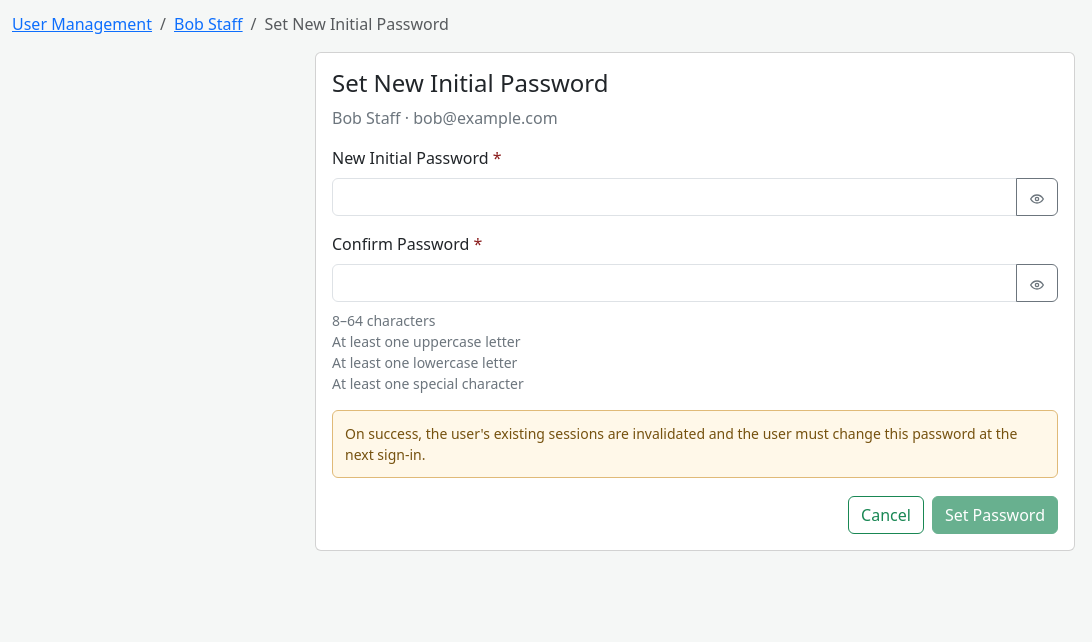
Test: AdminUsers create/edit/reset (Lab 3 Issue #50, UI-10/11) › reset form requires policy password with confirmation and shows the mandatory-change notice
Expected: the list item "Set New Initial Password" is shown, [243, 12, 449, 36]
Expected: the text "Bob Staff · bob@example.com" is shown, [332, 107, 558, 129]
Click the button named "Show new initial password".
click(1037, 197)  # box [1016, 178, 1058, 216]
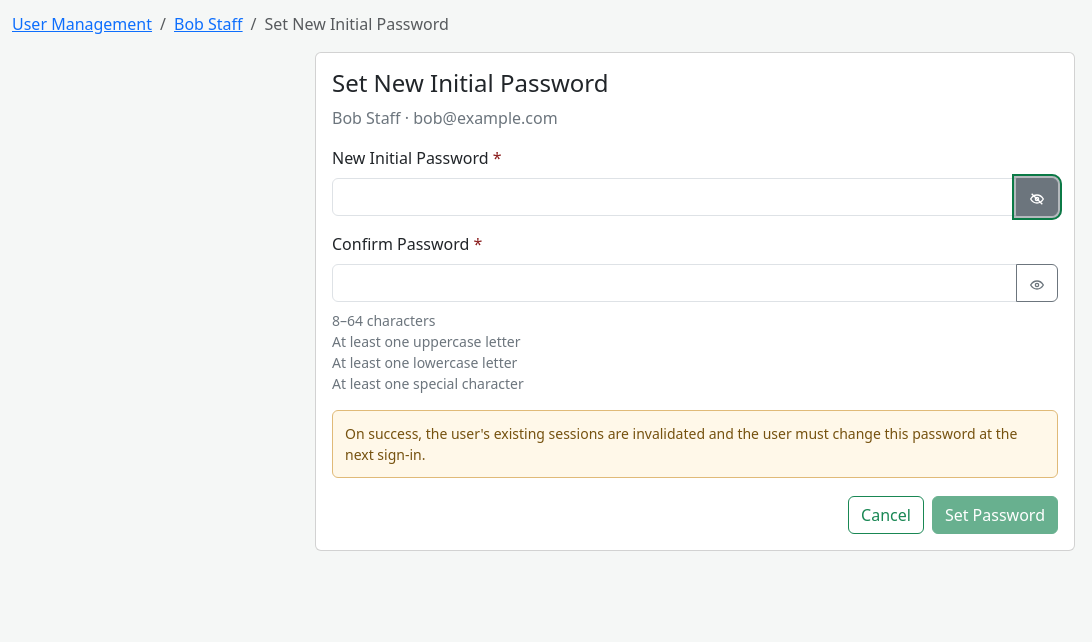
Type "Reset-New-9!" into the field labelled "New Initial Password *".
click(674, 197); type("Reset-New-9!")  # box [332, 178, 1017, 216]
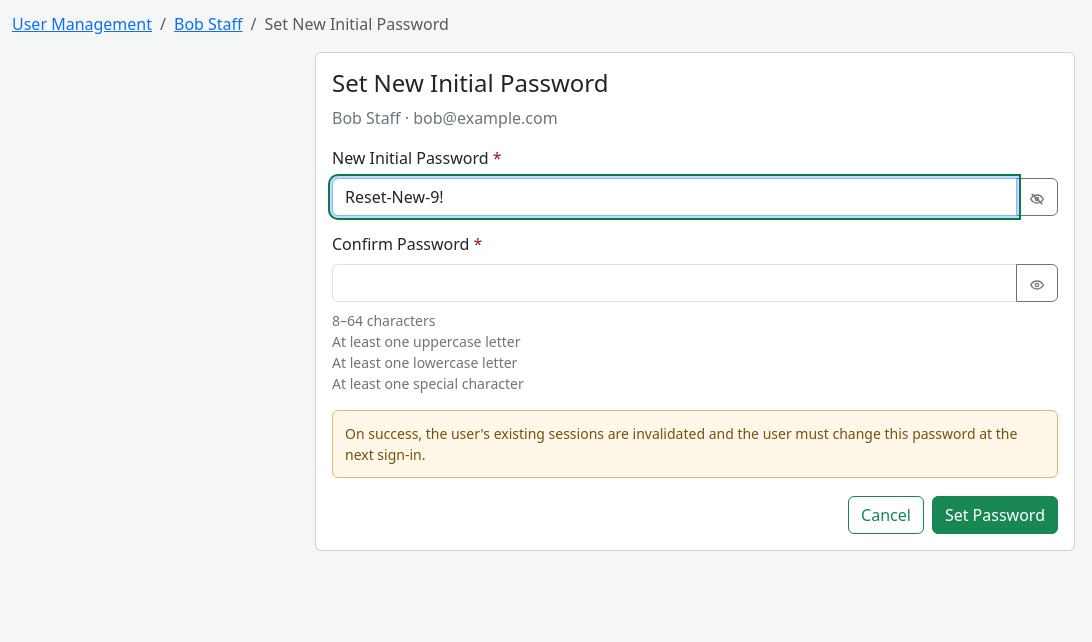
Type "Reset-New-9!" into the password field labelled "Confirm Password *".
click(674, 283); type("Reset-New-9!")  # box [332, 264, 1017, 302]
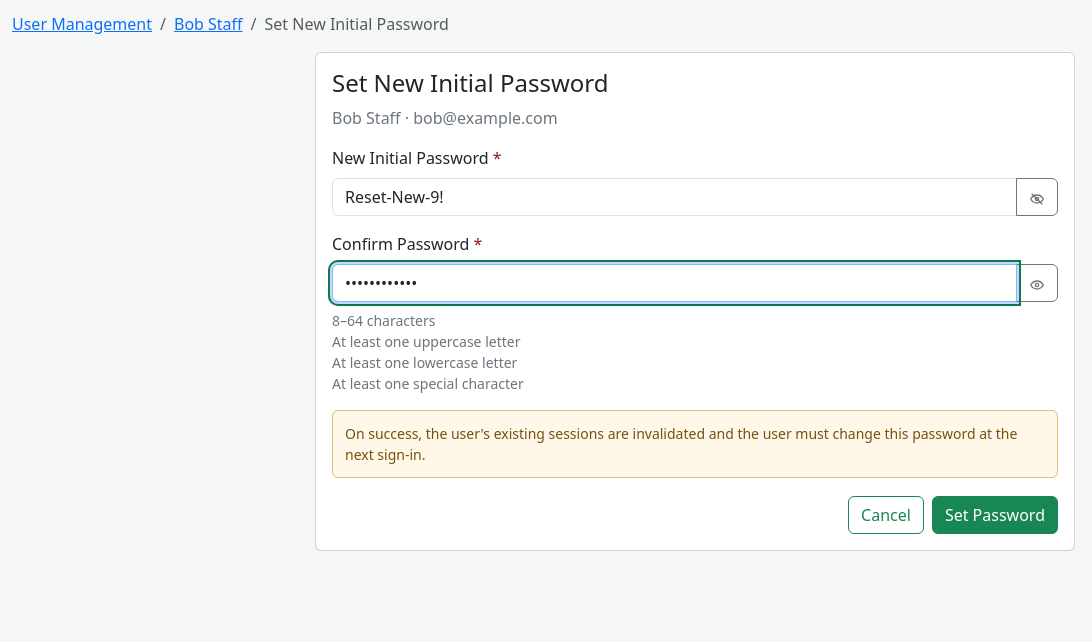
Click the button "Set Password".
click(995, 515)  # box [932, 496, 1058, 534]
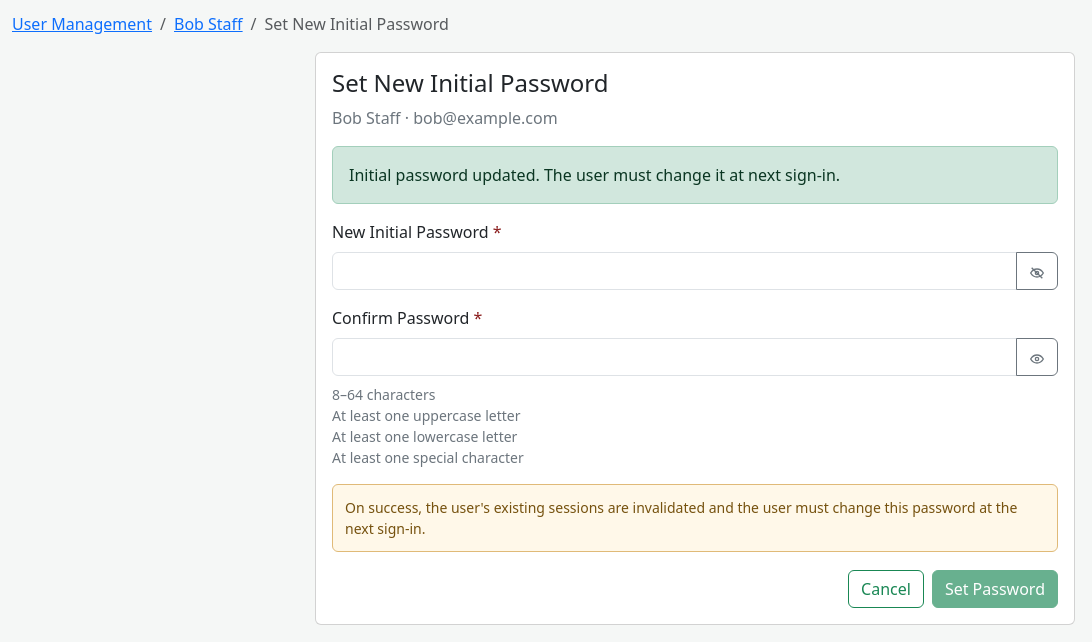
Expected: the text "Initial password updated. The user must change it at next sign-in." is shown, [332, 146, 1058, 204]
